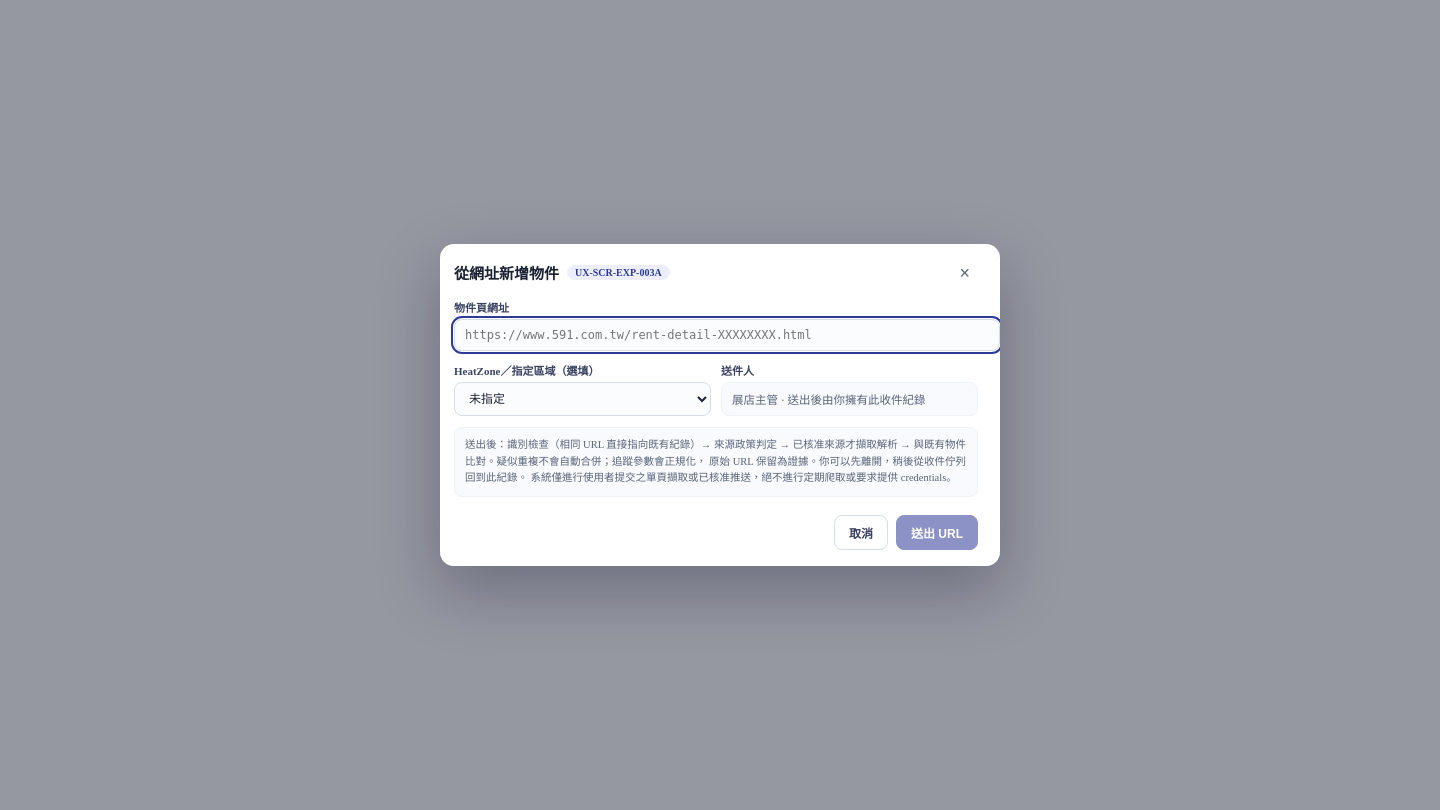
AddListingFromUrlDialog › shows local error on invalid URL submission
The image size is (1440, 810).
Type "invalid-url-string" into the field with test id "intake-url-input".
click(727, 335); type("invalid-url-string")  # box x1=454 y1=319 x2=1000 y2=351
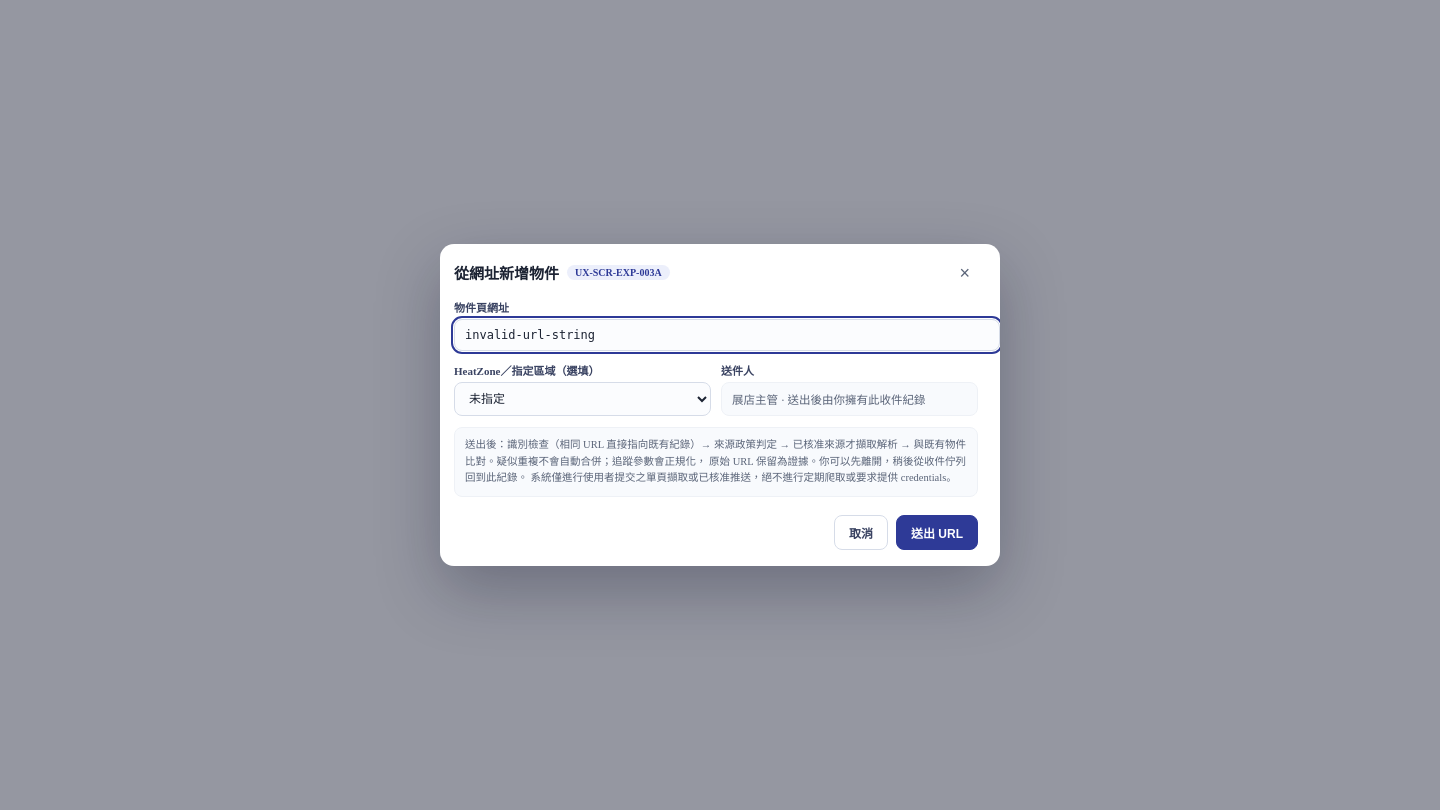
Click the button with test id "intake-submit-button".
click(937, 533)  # box x1=896 y1=515 x2=978 y2=550
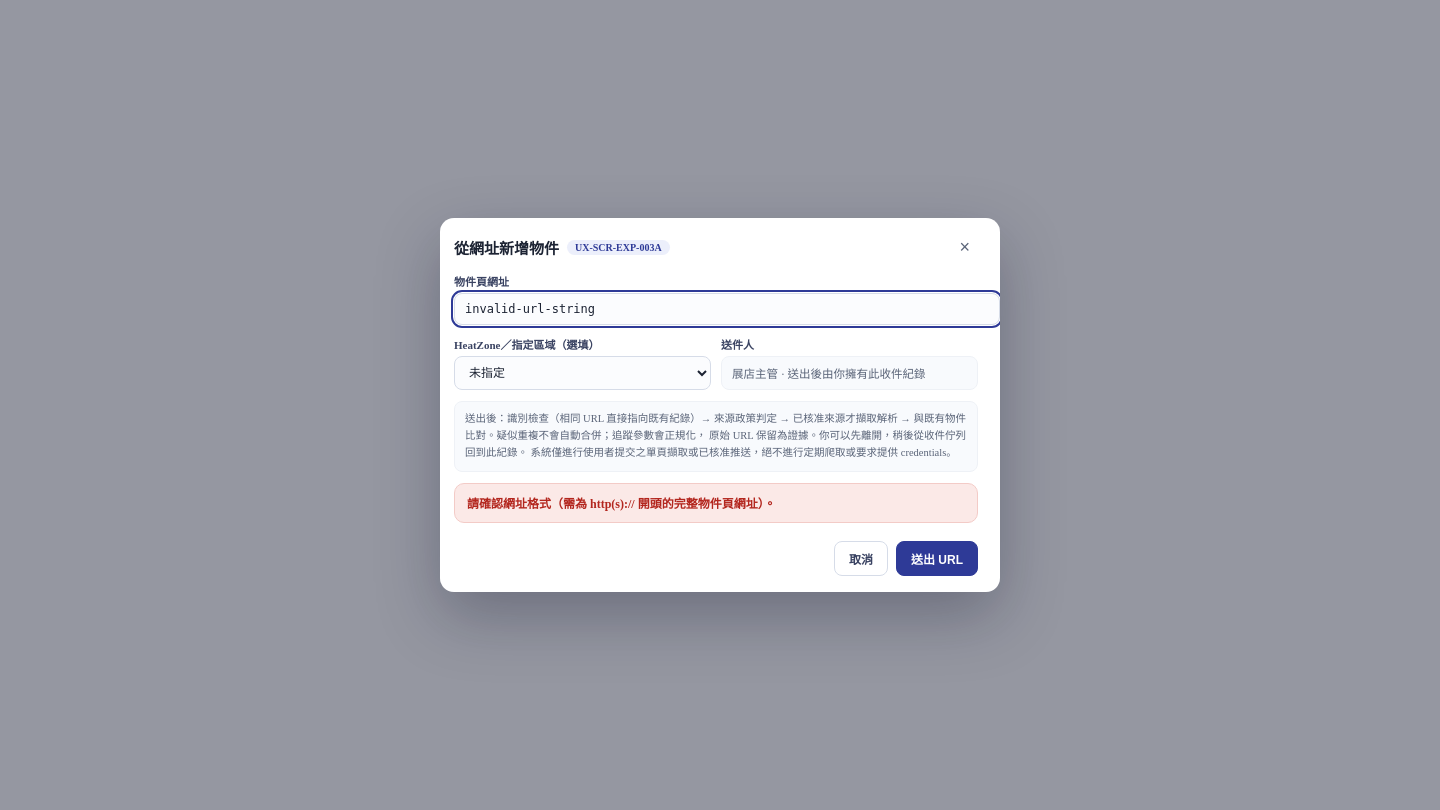
expect the message with test id "intake-add-error" shows "請確認網址格式": met, box x1=467 y1=497 x2=776 y2=511
